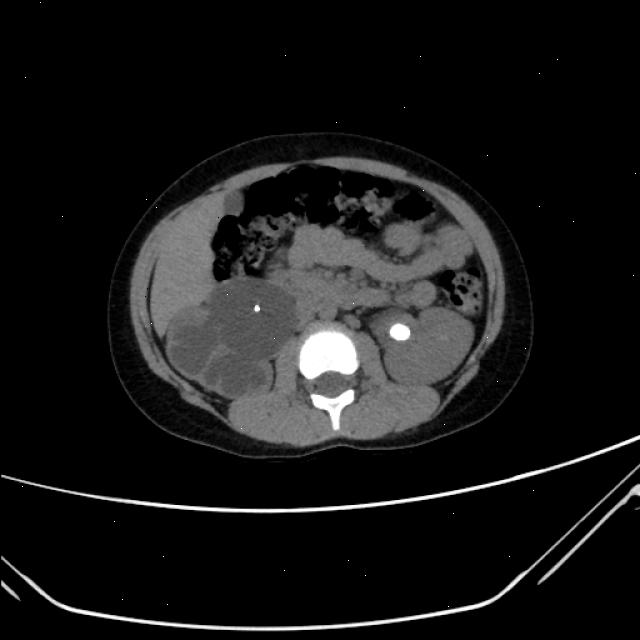kidneystone: (390, 322, 411, 341)
